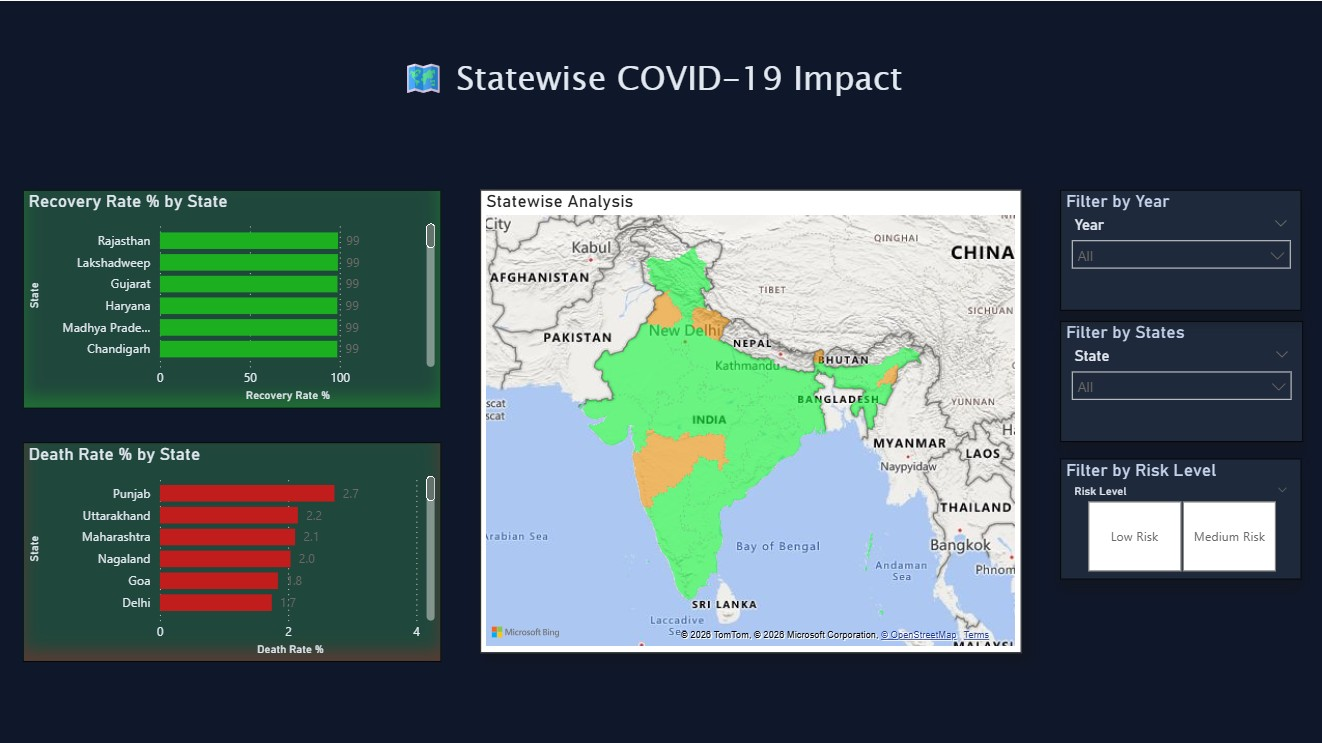

This screenshot's page, from the dashboard's own definition file:
{"tool":"powerbi","page":{"name":"Statewise Impact","canvas":[1280,720],"ordinal":5},"visuals":[{"type":"textbox","box":[382.4,45.8,512.7,62.7],"z":0},{"type":"filledMap","title":"Statewise Analysis ","fields":{"Category":["RawData.State"]},"box":[464.5,182.2,522.4,447.6],"z":1000},{"type":"clusteredBarChart","fields":{"Y":["RawData.Death Rate %"],"Category":["RawData.State"]},"box":[22.4,426.4,404.2,212.3],"z":2000},{"type":"clusteredBarChart","fields":{"Y":["RawData.Recovery Rate %"],"Category":["RawData.State"]},"box":[22.9,182.2,404.2,211.1],"z":3000},{"type":"slicer","title":"Filter by States","fields":{"Values":["RawData.State"]},"box":[1023.8,309.3,234,117],"z":4000},{"type":"slicer","title":"Filter by Year","fields":{"Values":["DateTable.Year"]},"box":[1023.8,182.7,232.8,117],"z":5000},{"type":"slicer","title":"Filter by Risk Level","fields":{"Values":["RawData.Risk Level"]},"box":[1023.8,442,232.8,117],"z":6000}]}

Visuals, with their boxes in screenshot pixels (x1, y1, x2, y2), scaled from the page's 1280x720 canvas onto the 1322x743 screenshot:
textbox: x1=395, y1=47, x2=924, y2=112
"Statewise Analysis " filledMap: x1=480, y1=188, x2=1019, y2=650
clusteredBarChart - RawData.Death Rate % x RawData.State: x1=23, y1=440, x2=441, y2=659
clusteredBarChart - RawData.Recovery Rate % x RawData.State: x1=24, y1=188, x2=441, y2=406
"Filter by States" slicer: x1=1057, y1=319, x2=1299, y2=440
"Filter by Year" slicer: x1=1057, y1=189, x2=1298, y2=309
"Filter by Risk Level" slicer: x1=1057, y1=456, x2=1298, y2=577
